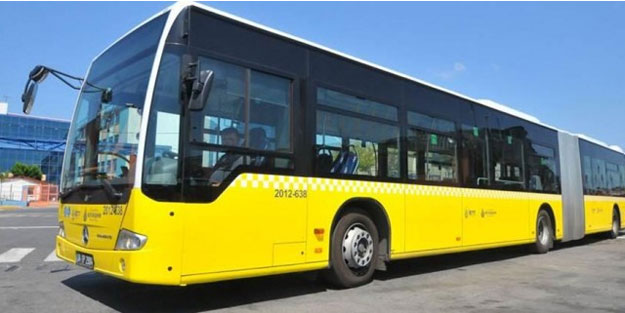bus: (52, 3, 625, 284)
